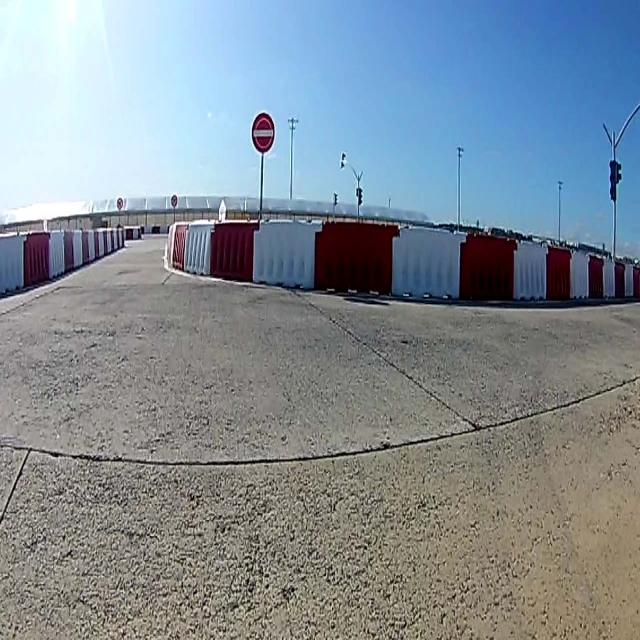girisyok: (252, 114, 274, 150)
